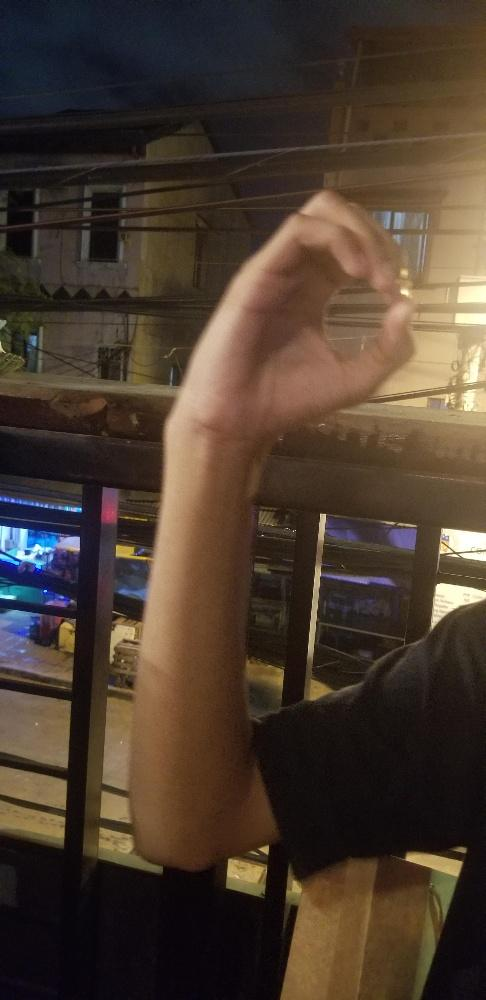o: (161, 188, 417, 442)
